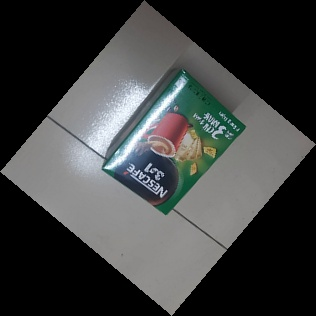Nes Rang: (96, 69, 249, 217)
